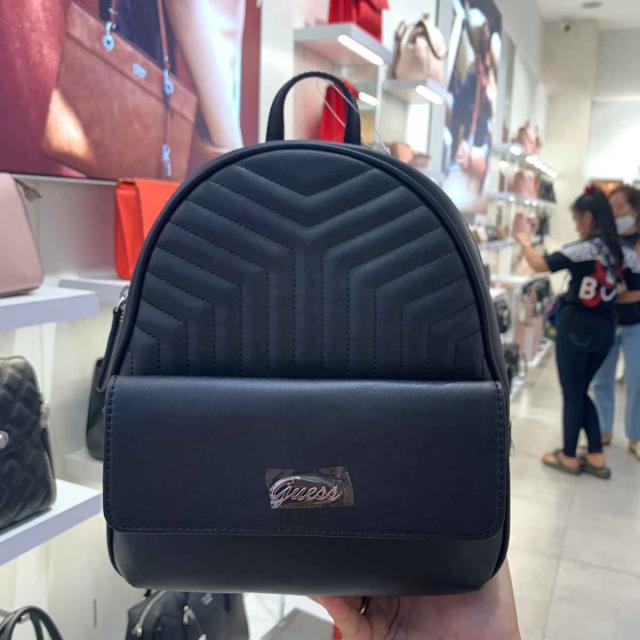handbag: (96, 107, 556, 617)
